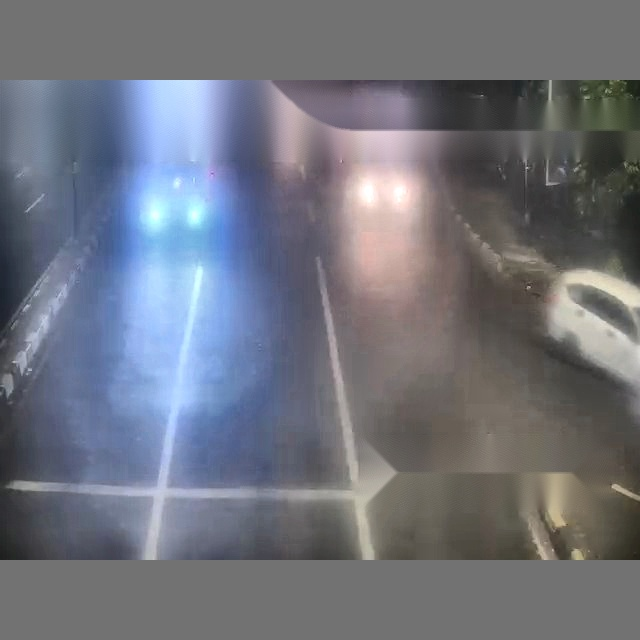Bis: (0, 81, 434, 544)
